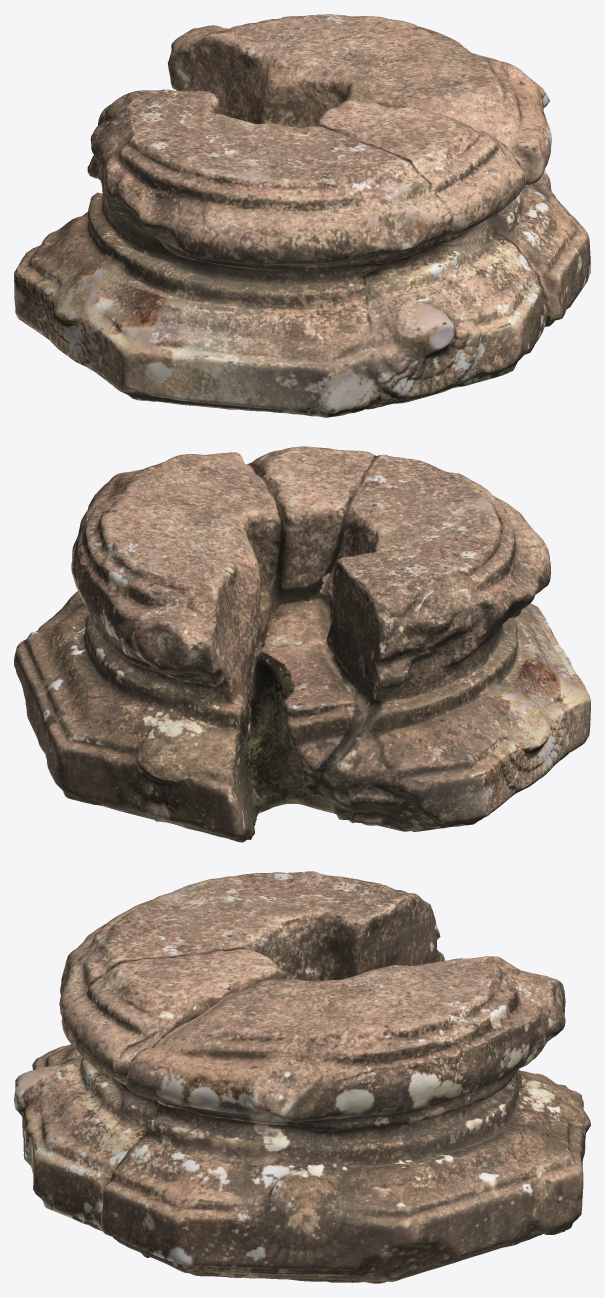
The model's file is 34_MysonSanctuaryB_Trucot_final.glb.
3 views of the same model, one above another, from view 1: azimuth 30°, elevation 25°; view 2: azimuth 150°, elevation 25°; view 3: azimuth 270°, elevation 25° (orthographic). The views are drawn at different scales.
Bounding box in the file's own units: 0.6892 × 0.3272 × 0.6851.
Materials: 1 (1 with a texture image).
